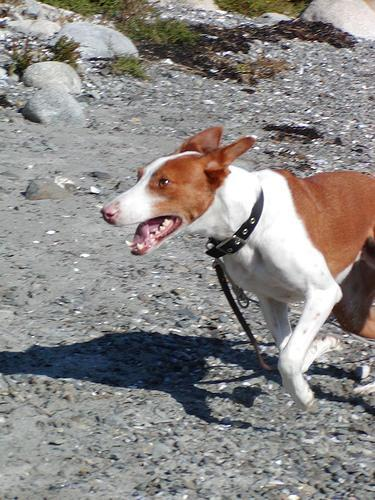Ibizan_hound: (97, 126, 373, 412)
